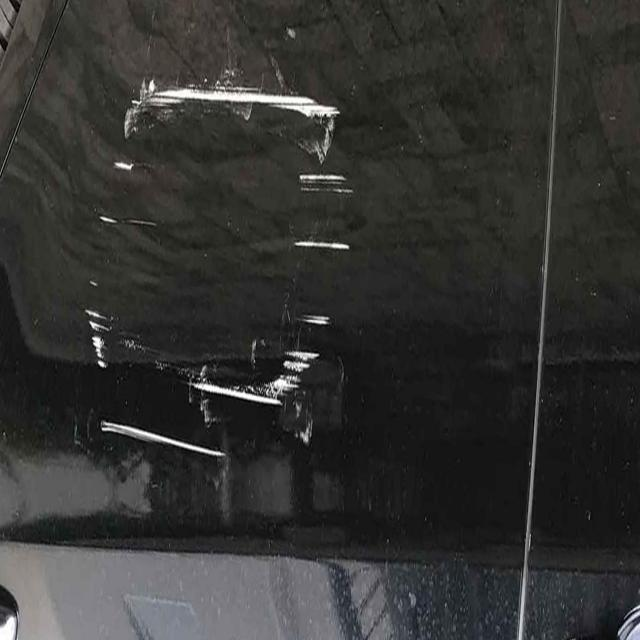scratch: (112, 75, 350, 151), (180, 343, 330, 414), (96, 408, 230, 474), (78, 264, 118, 390), (84, 198, 178, 238), (288, 232, 366, 273), (292, 167, 362, 211), (92, 150, 157, 191), (277, 303, 338, 332)
